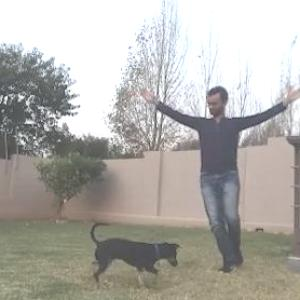takeoff: (136, 83, 299, 275)
